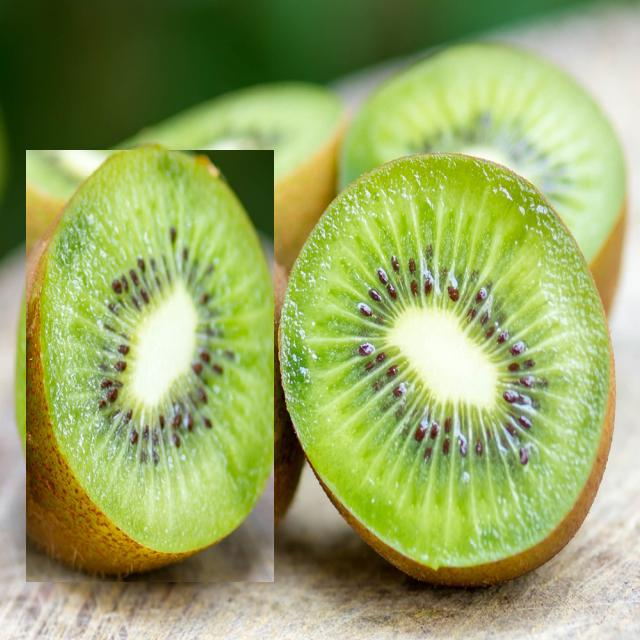Qiwi: (292, 157, 620, 596), (26, 150, 274, 582), (352, 55, 628, 200)
